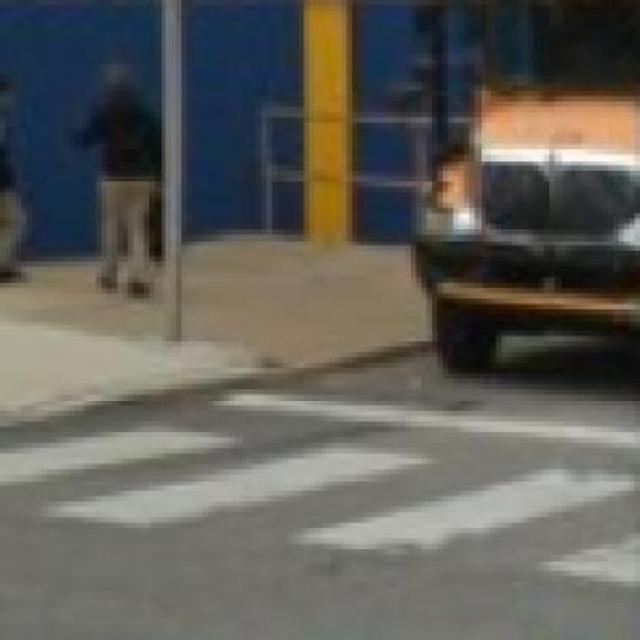crosswalk: (1, 431, 640, 584)
